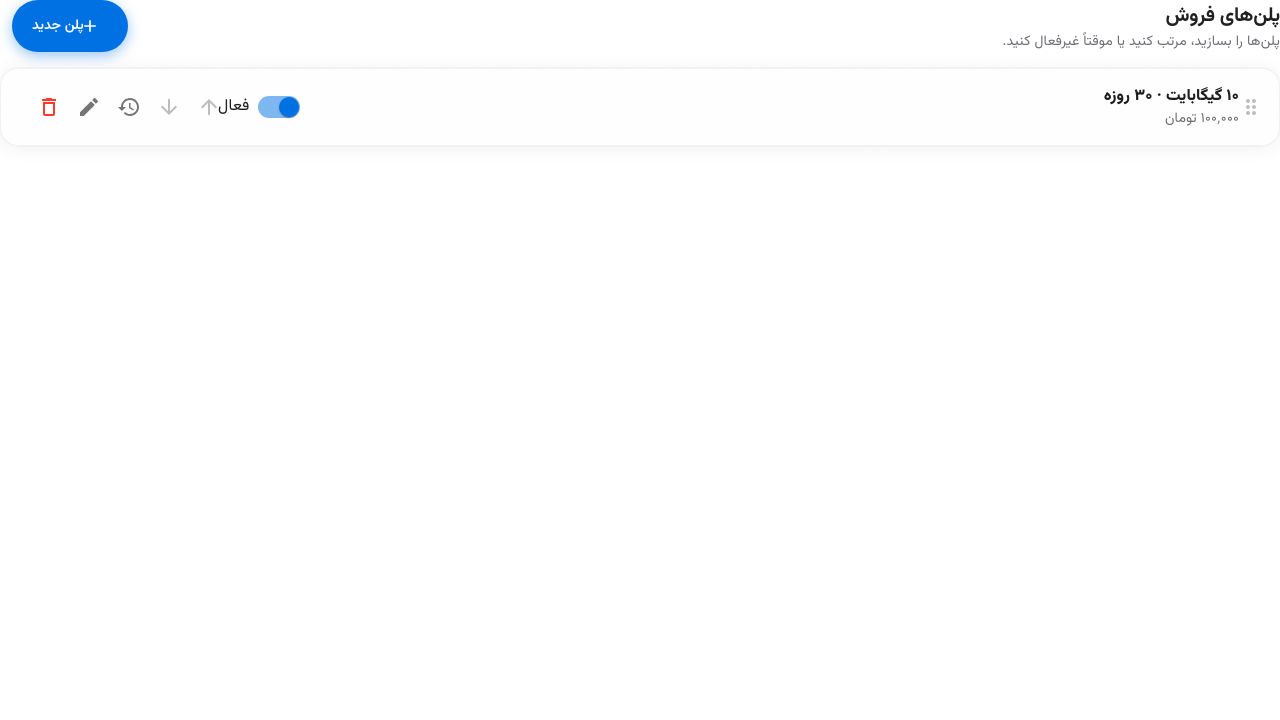
Test: storefront Release B administration › shows audited before/after plan history including price changes
This screenshot has width=1280, height=720.
Click the button named "تاریخچه پلن". click: (129, 107)
box: [109,87,149,127]
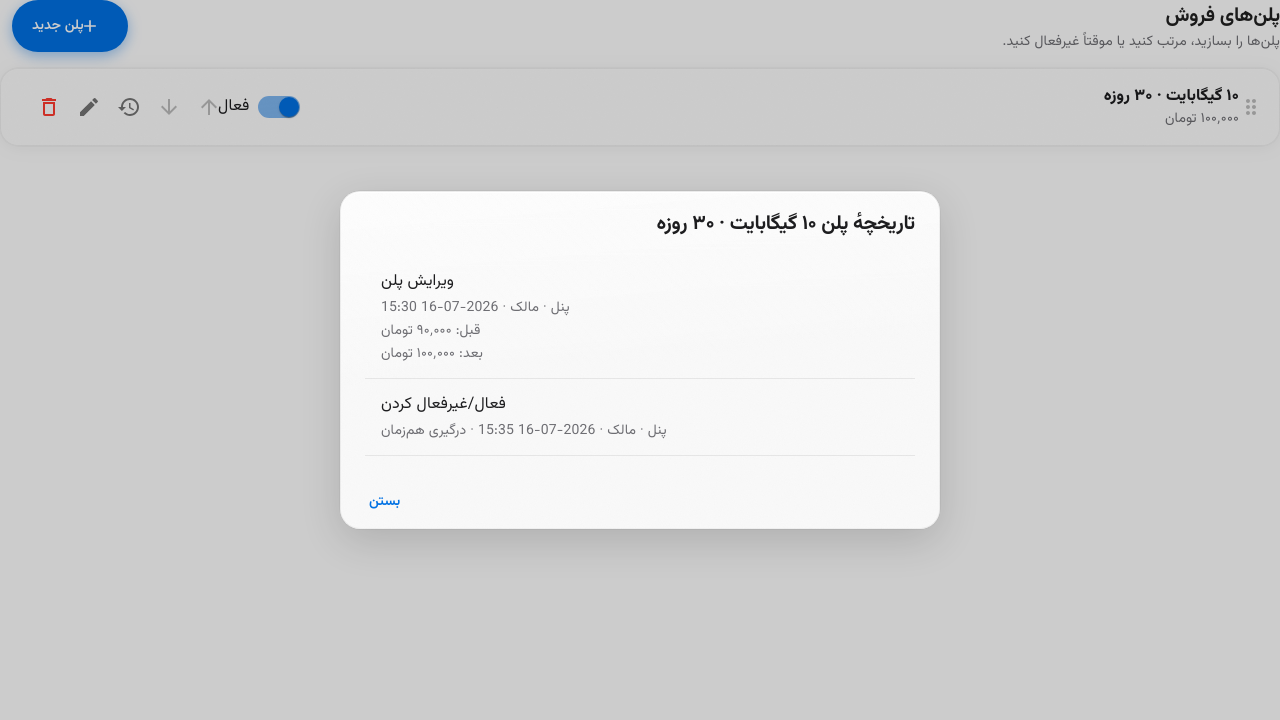
Check: the text "قبل: ۹۰٬۰۰۰ تومان" is shown, box [381,320,481,342]
Check: the text "بعد: ۱۰۰٬۰۰۰ تومان" is shown, box [381,343,483,365]
Check: the text "فعال/غیرفعال کردن" is shown, box [381,392,506,417]
Click the button "بستن". click: (385, 502)
box: [349,484,420,520]
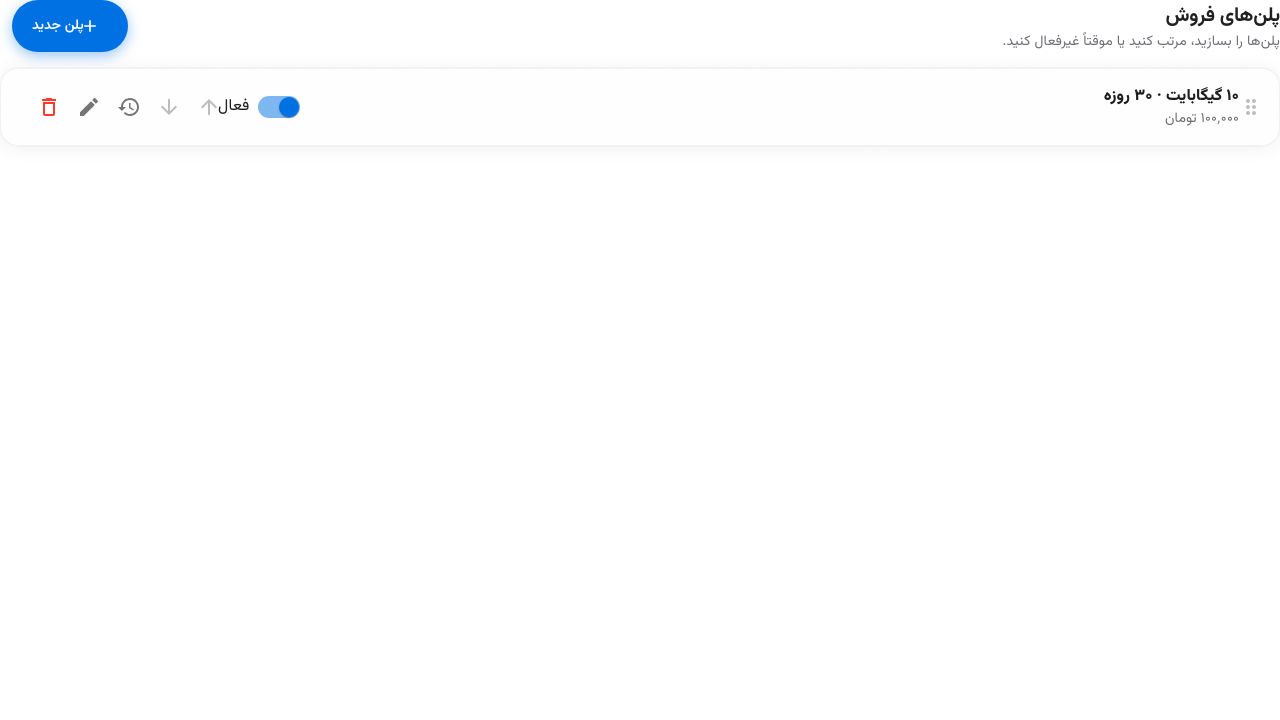
Check: the heading "تاریخچهٔ پلن" is gone
